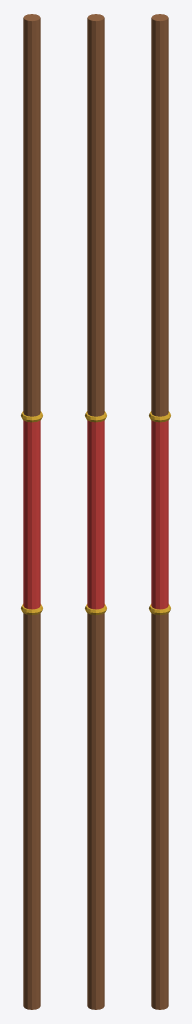
File: Wooden Pole.fbx
3 renders of one model, left to right at view 1: azimuth 30°, elevation 25°; view 2: azimuth 210°, elevation 25°; view 3: azimuth 330°, elevation 25°, orthographic.
Parts seen in each view (by area): view 1: Wooden Pole; view 2: Wooden Pole; view 3: Wooden Pole.
Boxes of the visible parts, box(x1,y1,x2,y2) form: Wooden Pole: box(21, 14, 42, 1009); Wooden Pole: box(85, 14, 106, 1009); Wooden Pole: box(149, 14, 170, 1009).
Bounding box in the file's own units: 26.4 × 1280 × 26.4.
